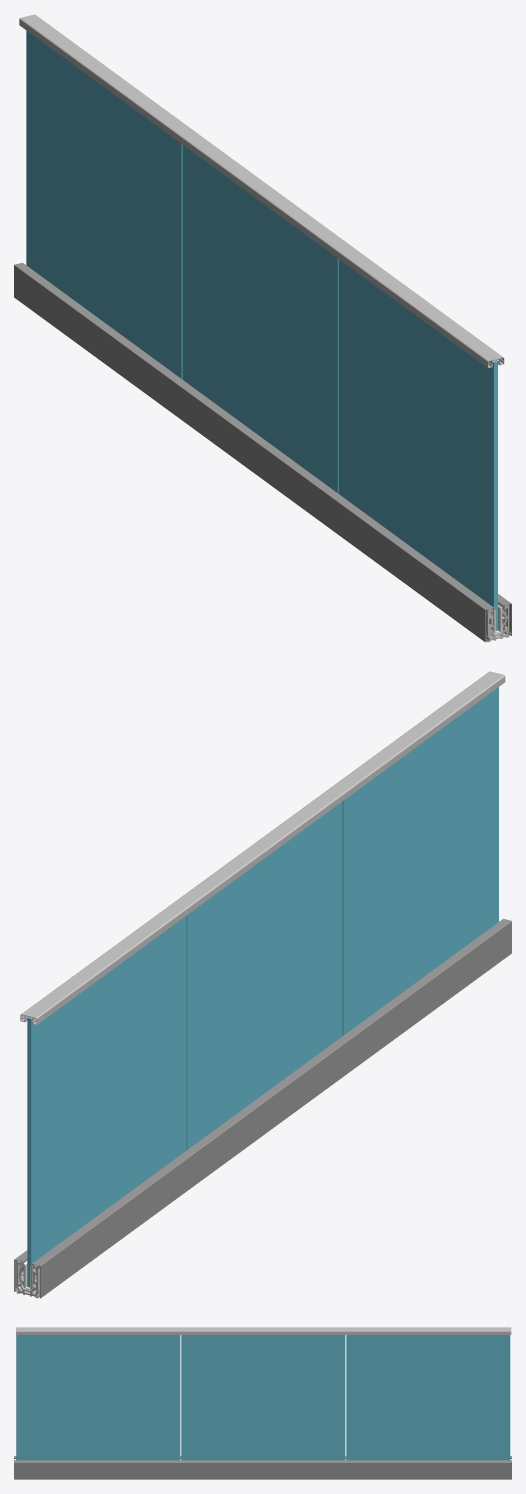
Rendered from Balustrada Eksen.fbx.
3 views of the same model, one above another, from view 1: azimuth 30°, elevation 25°; view 2: azimuth 150°, elevation 25°; view 3: azimuth 270°, elevation 25° (orthographic). The views are drawn at different scales.
Visible parts, largest first — view 1: Body1 (×4), Body2; view 2: Body1 (×4), Body2; view 3: Body1 (×5).
Boxes of the visible parts, box(x1,y1,x2,y2) form: Body1 (×4): box(19, 14, 504, 632); Body2: box(14, 262, 494, 642); Body1 (×4): box(20, 671, 505, 1287); Body2: box(31, 918, 511, 1298); Body1 (×5): box(14, 1327, 511, 1479).
Bounding box in the file's own units: 98.08 × 987 × 3020.
